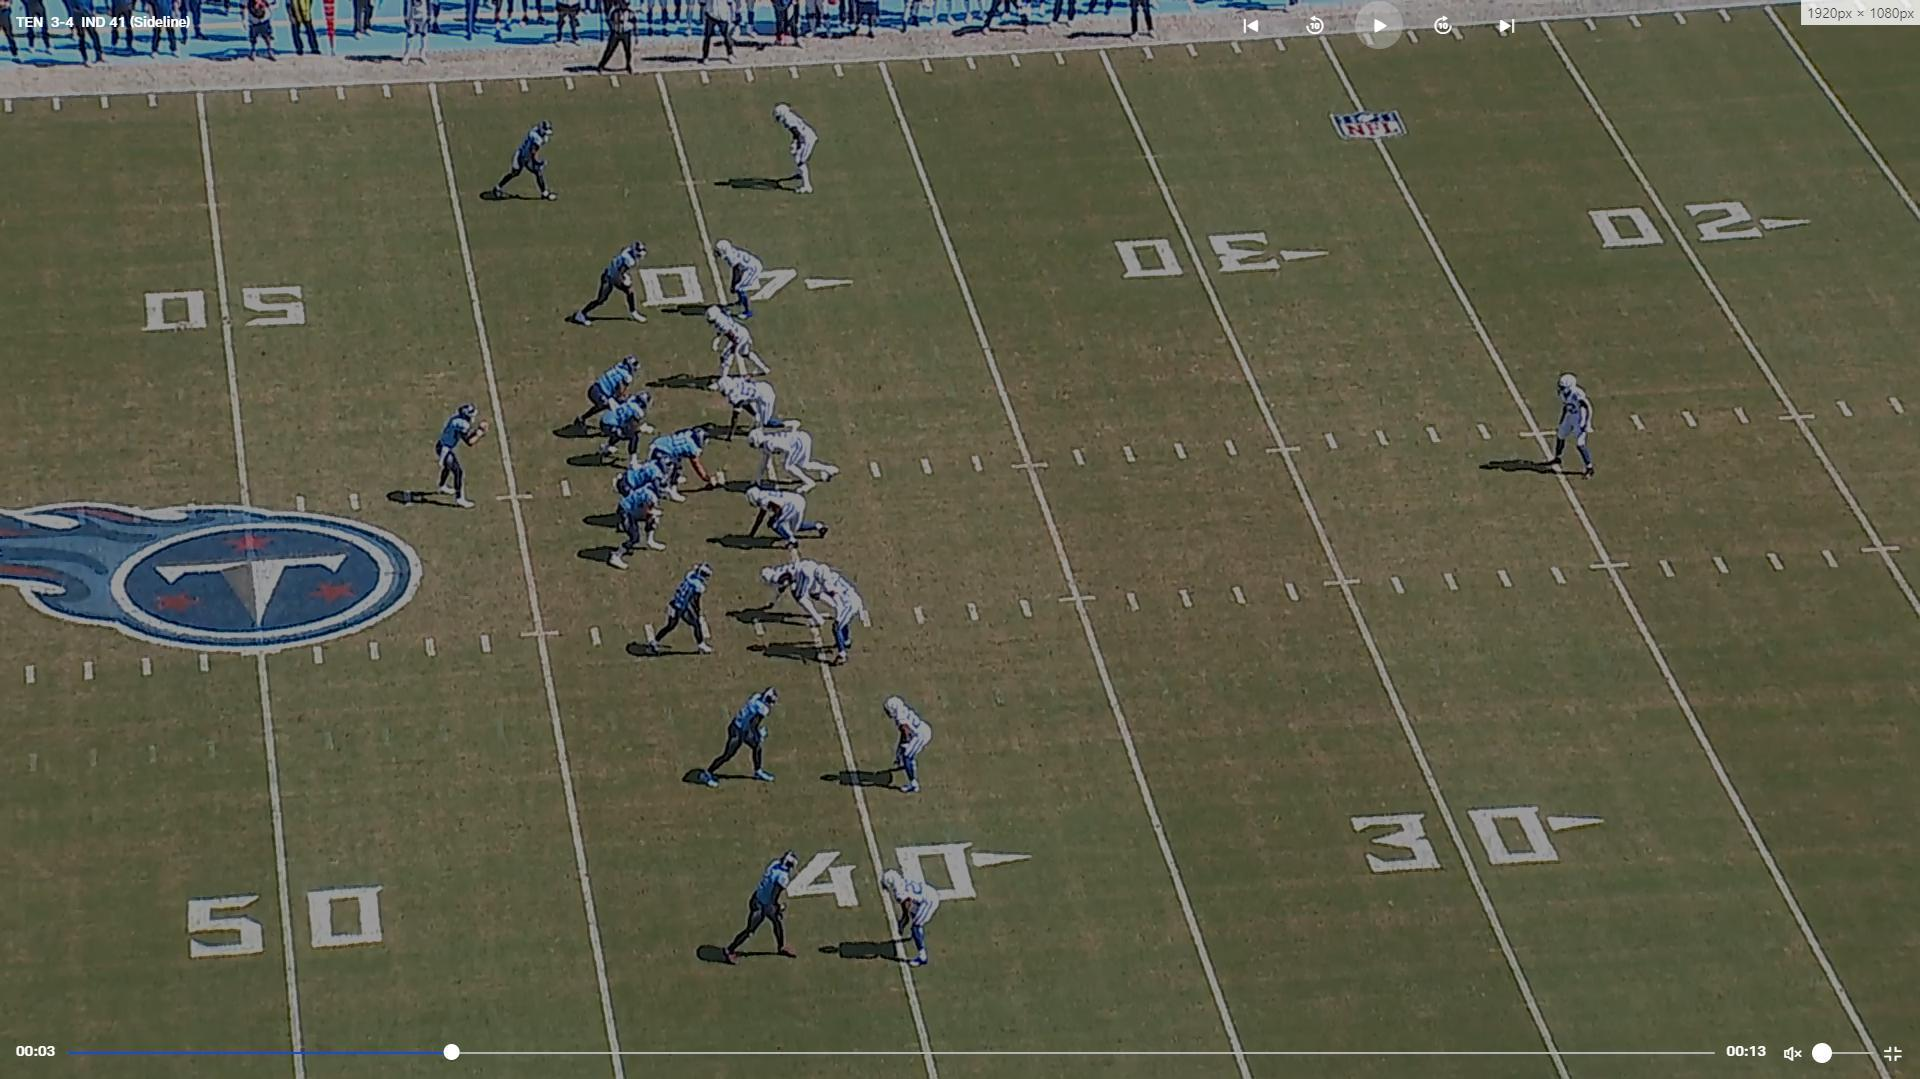player: (710, 847, 807, 967), (694, 683, 788, 790), (569, 240, 653, 331), (638, 561, 715, 659), (487, 116, 564, 206), (612, 471, 679, 571), (739, 483, 831, 555), (883, 869, 944, 973), (745, 426, 837, 492), (810, 563, 866, 671), (428, 403, 484, 511), (882, 694, 938, 800), (568, 352, 641, 433), (650, 426, 724, 504), (1548, 371, 1600, 478), (706, 304, 775, 384), (715, 375, 795, 443), (760, 562, 836, 630), (599, 387, 660, 467), (777, 101, 825, 198), (713, 237, 766, 320), (616, 453, 677, 516)
ref: (598, 2, 645, 79)
